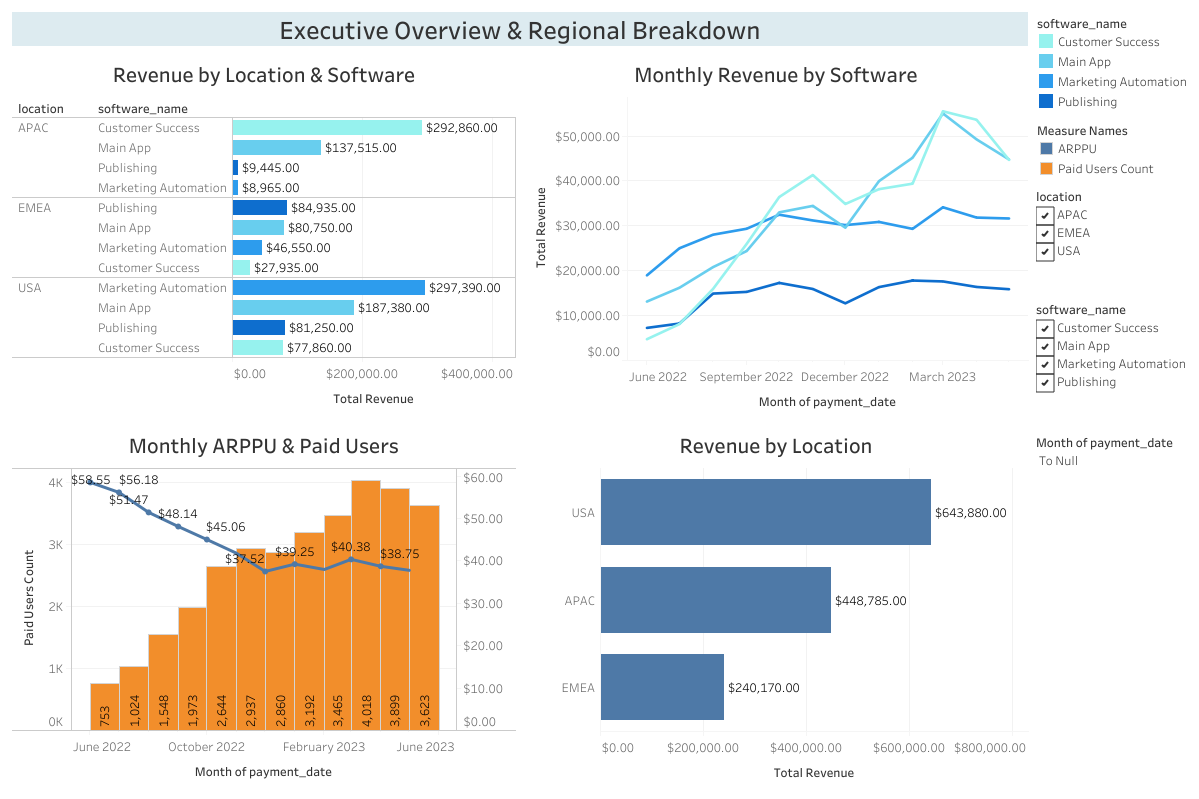

This screenshot's page, from the dashboard's own definition file:
{"tool":"tableau","page":{"name":"Executive Overview & Regional Breakdown","canvas":[1200,800],"ordinal":0},"visuals":[{"type":"title","box":[8,8,1024,42]},{"type":"legend","title":"Monthly Revenue by Software","param":"[federated.0ptnrpm1tmrs1c18ewupa0tvfk08].[none:software_name:nk]","box":[1032,8,160,107]},{"type":"worksheet","title":"Revenue by Location & Software","mark":"Automatic","rows":["location","software_name"],"cols":["Calculation_1154243943665664"],"box":[8,50,512.3,371]},{"type":"worksheet","title":"Monthly Revenue by Software","mark":"Automatic","rows":["Calculation_1154243943665664"],"cols":["payment_date"],"box":[520.3,50,511.7,371]},{"type":"legend","title":"Monthly ARPPU & Paid Users","param":"[federated.0ptnrpm1tmrs1c18ewupa0tvfk08].[:Measure Names]","box":[1032,115,160,67]},{"type":"filter","title":"Revenue by Location","param":"[federated.0ptnrpm1tmrs1c18ewupa0tvfk08].[none:location:nk]","box":[1032,182,160,113]},{"type":"filter","title":"Monthly Revenue by Software","param":"[federated.0ptnrpm1tmrs1c18ewupa0tvfk08].[none:software_name:nk]","box":[1032,295,160,133]},{"type":"worksheet","title":"Monthly ARPPU & Paid Users","mark":"Automatic","rows":["Calculation_1154243945840641","Calculation_1154243946127362"],"cols":["payment_date"],"box":[8,421,512,371]},{"type":"worksheet","title":"Revenue by Location","mark":"Automatic","rows":["location"],"cols":["Calculation_1154243943665664"],"box":[520,421,512,371]},{"type":"filter","title":"Monthly Revenue by Software","param":"[federated.0ptnrpm1tmrs1c18ewupa0tvfk08].[tmn:payment_date:qk]","box":[1032,428,160,70]}]}

Visuals, with their boxes in screenshot pixels (x1, y1, x2, y2), scaled from the page's 1200x800 canvas onto the 1199x799 screenshot:
title: bbox=[8, 8, 1031, 50]
"Monthly Revenue by Software" legend: bbox=[1031, 8, 1191, 115]
"Revenue by Location & Software" worksheet: bbox=[8, 50, 520, 420]
"Monthly Revenue by Software" worksheet: bbox=[520, 50, 1031, 420]
"Monthly ARPPU & Paid Users" legend: bbox=[1031, 115, 1191, 182]
"Revenue by Location" filter: bbox=[1031, 182, 1191, 295]
"Monthly Revenue by Software" filter: bbox=[1031, 295, 1191, 427]
"Monthly ARPPU & Paid Users" worksheet: bbox=[8, 420, 520, 791]
"Revenue by Location" worksheet: bbox=[520, 420, 1031, 791]
"Monthly Revenue by Software" filter: bbox=[1031, 427, 1191, 497]
